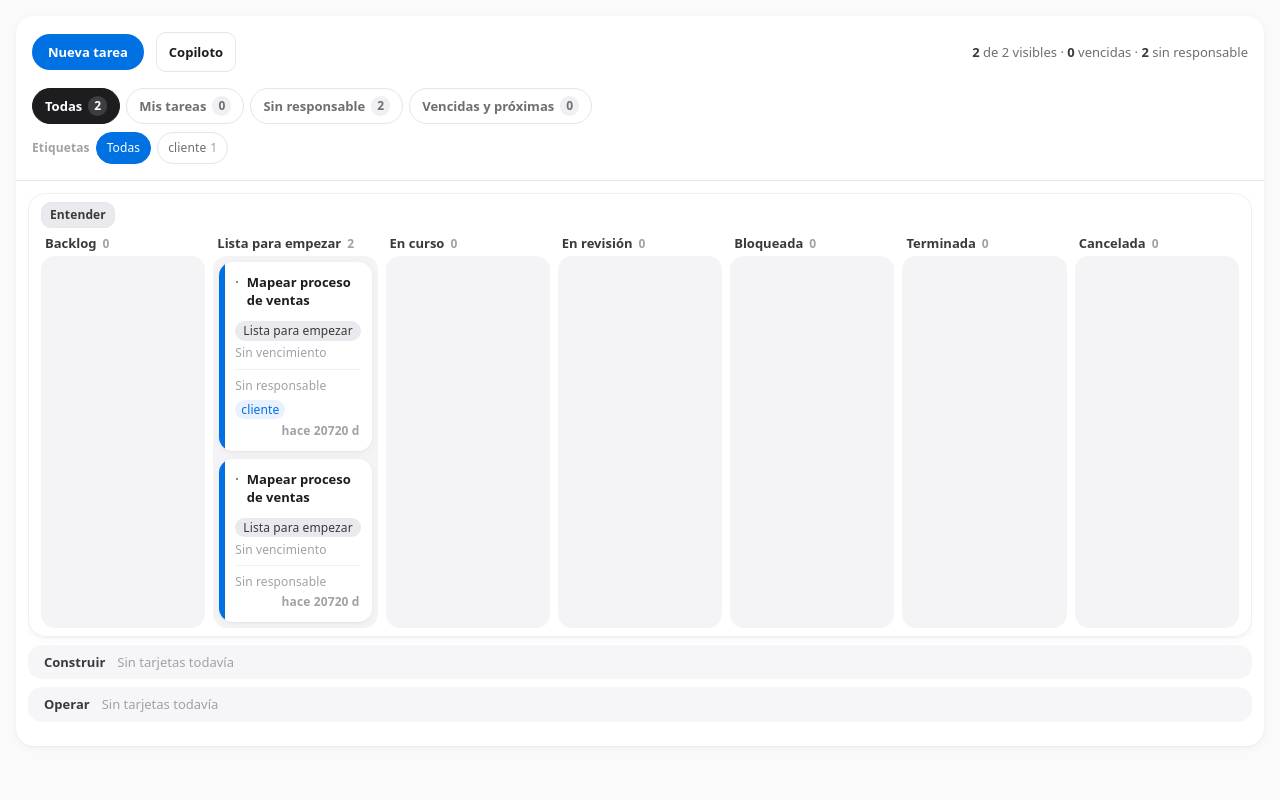
Scenario: Filtro por etiqueta en el tablero › pinta los chips y filtra tarjetas por etiqueta
Expected: the element with test id "card-labels-t-con" reads "cliente", [241,401,279,418]
Expected: the button with test id "task-card-t-con" is shown, [219,262,372,451]
Click the button with test id "board-label-cliente".
click(193, 148)  # box [157,132,228,164]
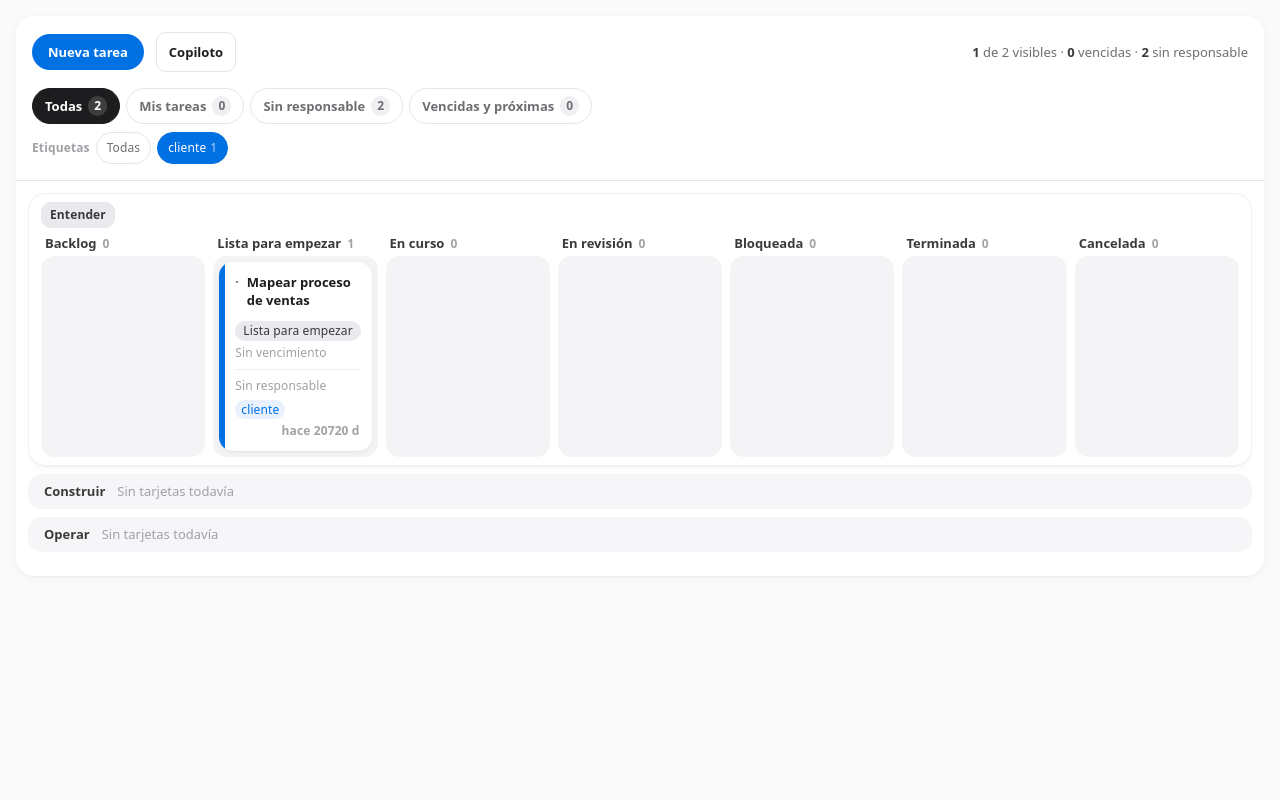
Expected: the button with test id "task-card-t-con" is shown, [219,262,372,451]
Expected: the button with test id "task-card-t-sin" is gone
Click the button with test id "board-label-all".
click(124, 148)  # box [96,132,151,164]
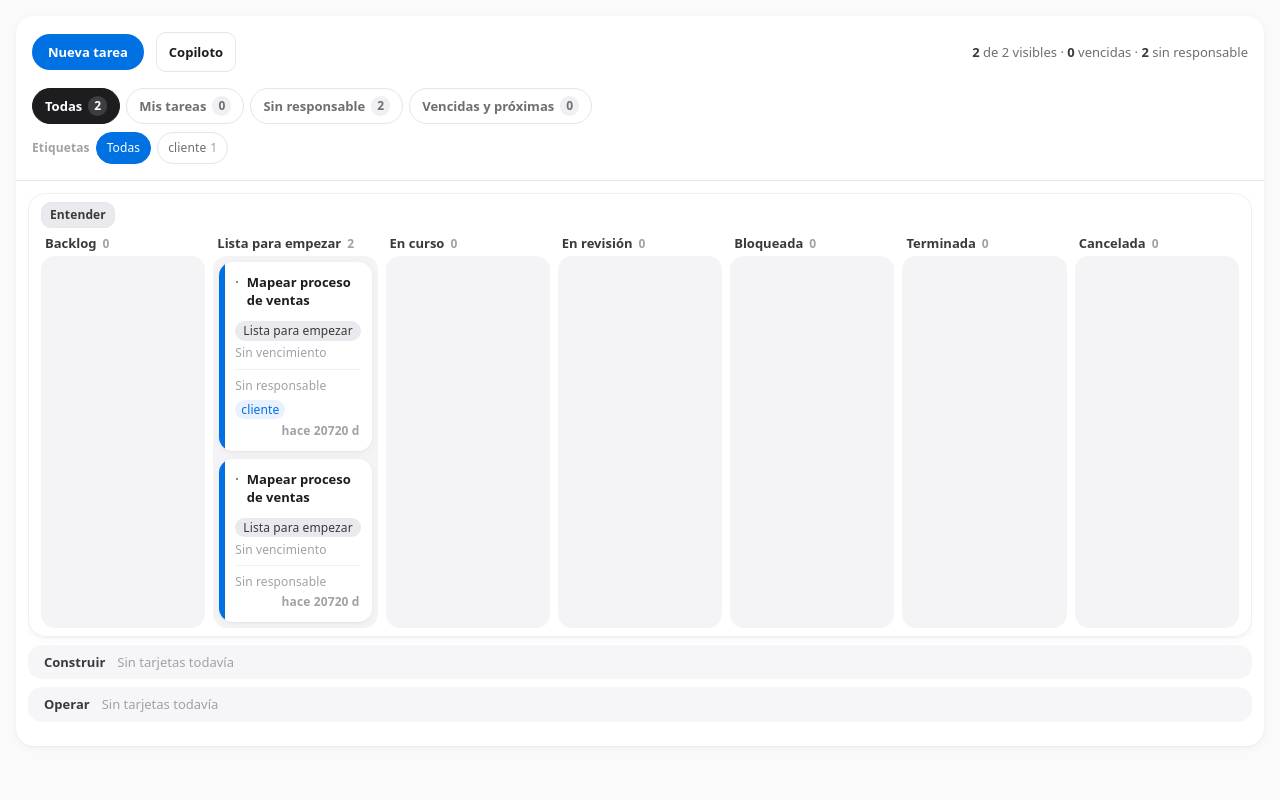
Expected: the button with test id "task-card-t-con" is shown, [219,262,372,451]
Expected: the button with test id "task-card-t-sin" is shown, [219,459,372,622]
